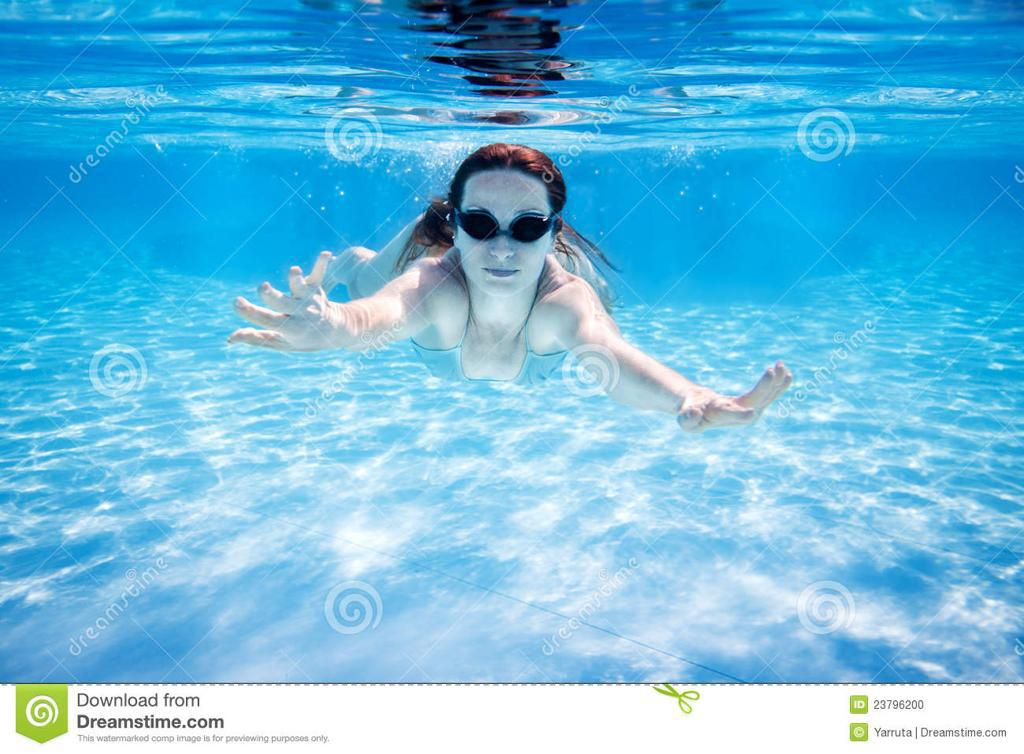face: (461, 177, 551, 305)
